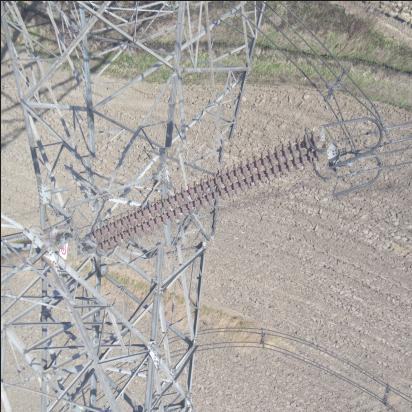insulator: (66, 134, 334, 251)
